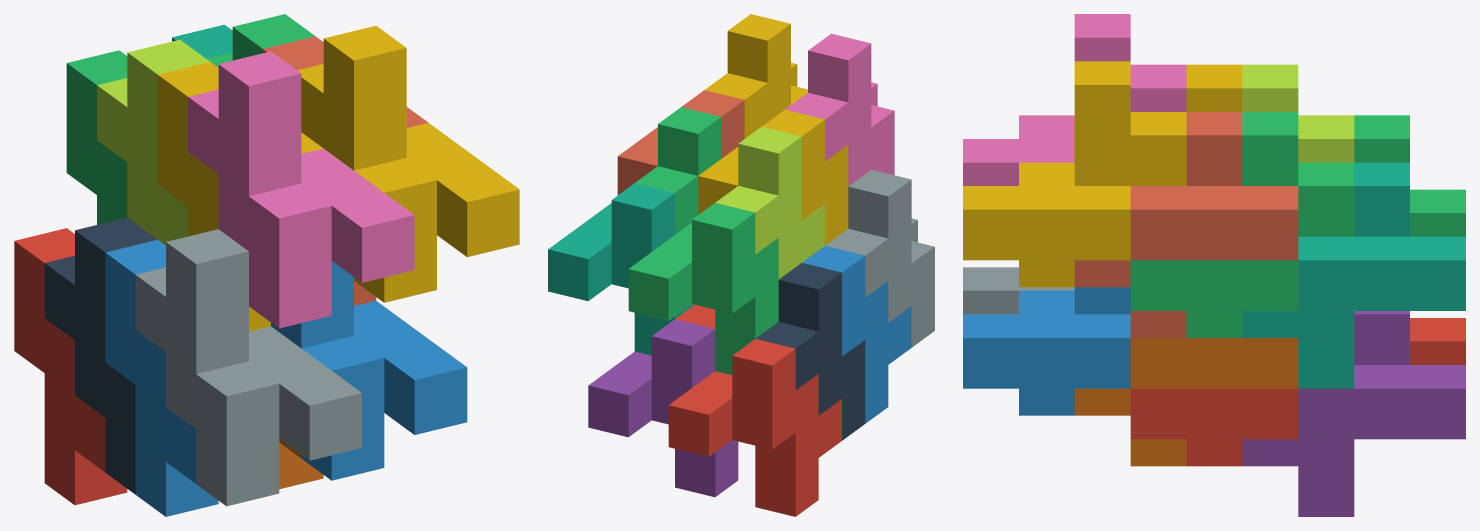
Rendered from tiling.obj.
3 renders of one model, left to right at view 1: azimuth 30°, elevation 25°; view 2: azimuth 150°, elevation 25°; view 3: azimuth 270°, elevation 25°, orthographic. The views are drawn at different scales.
Visible parts, largest first — view 1: copy_2_domain_4, copy_2_domain_2, copy_2_domain_8, copy_2_domain_6, copy_1_domain_1, copy_1_domain_2, copy_2_domain_1, copy_2_domain_3, copy_1_domain_4, copy_1_domain_3, copy_2_domain_7, copy_1_domain_8 (+2 smaller); view 2: copy_1_domain_1, copy_1_domain_3, copy_1_domain_5, copy_1_domain_7, copy_2_domain_2, copy_2_domain_1, copy_2_domain_4, copy_2_domain_3, copy_1_domain_2, copy_2_domain_8, copy_1_domain_4, copy_2_domain_7 (+2 smaller); view 3: copy_2_domain_8, copy_1_domain_7, copy_1_domain_5, copy_1_domain_8, copy_2_domain_7, copy_2_domain_6, copy_1_domain_6, copy_2_domain_4, copy_2_domain_5, copy_2_domain_3, copy_1_domain_3, copy_2_domain_2 (+2 smaller).
Part boxes in pixels (<box>): copy_2_domain_4: <box>188,51,414,328</box>; copy_2_domain_2: <box>135,229,361,506</box>; copy_2_domain_8: <box>297,25,519,302</box>; copy_2_domain_6: <box>271,261,467,480</box>; copy_1_domain_1: <box>14,228,127,505</box>; copy_1_domain_2: <box>105,239,218,516</box>; copy_2_domain_1: <box>44,217,157,494</box>; copy_2_domain_3: <box>97,39,209,245</box>; copy_1_domain_4: <box>157,62,323,331</box>; copy_1_domain_3: <box>66,50,127,224</box>; copy_2_domain_7: <box>206,14,314,67</box>; copy_1_domain_8: <box>263,36,428,305</box>; copy_1_domain_1: <box>668,339,841,516</box>; copy_1_domain_3: <box>628,203,778,374</box>; copy_1_domain_5: <box>588,319,738,497</box>; copy_1_domain_7: <box>548,183,694,355</box>; copy_2_domain_2: <box>825,169,934,347</box>; copy_2_domain_1: <box>755,263,865,440</box>; copy_2_domain_4: <box>785,33,894,186</box>; copy_2_domain_3: <box>715,126,824,279</box>; copy_1_domain_2: <box>802,246,911,423</box>; copy_2_domain_8: <box>705,14,807,138</box>; copy_1_domain_4: <box>698,110,848,245</box>; copy_2_domain_7: <box>635,107,721,234</box>; copy_2_domain_8: <box>963,61,1186,287</box>; copy_1_domain_7: <box>1242,162,1465,388</box>; copy_1_domain_5: <box>1242,311,1465,516</box>; copy_1_domain_8: <box>1074,112,1298,337</box>; copy_2_domain_7: <box>1130,112,1354,337</box>; copy_2_domain_6: <box>963,287,1130,415</box>; copy_1_domain_6: <box>1074,338,1298,466</box>; copy_2_domain_4: <box>963,14,1186,185</box>; copy_2_domain_5: <box>1130,388,1298,466</box>; copy_2_domain_3: <box>1242,64,1354,162</box>; copy_1_domain_3: <box>1354,115,1465,236</box>; copy_2_domain_2: <box>963,267,1074,314</box>.
Bounding box in the file's own units: 5 × 9 × 9.
